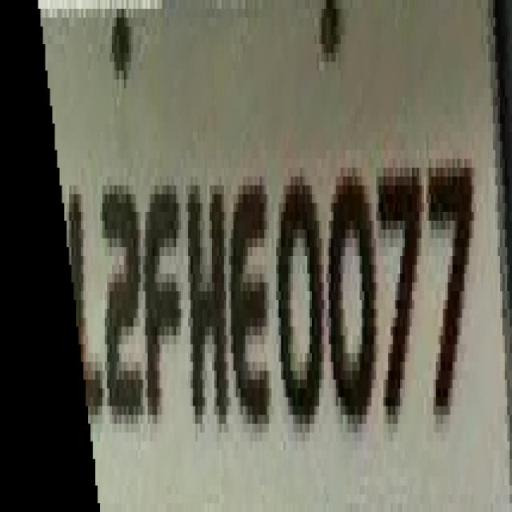number plate: (14, 38, 507, 506)
